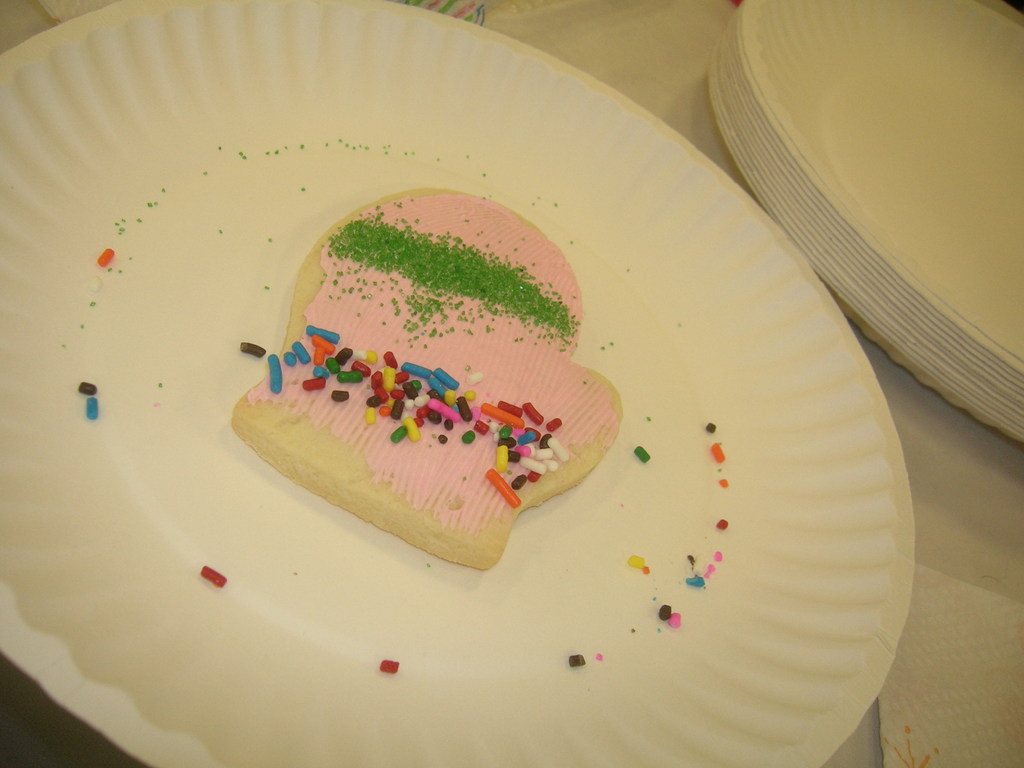plate: (20, 0, 932, 767)
